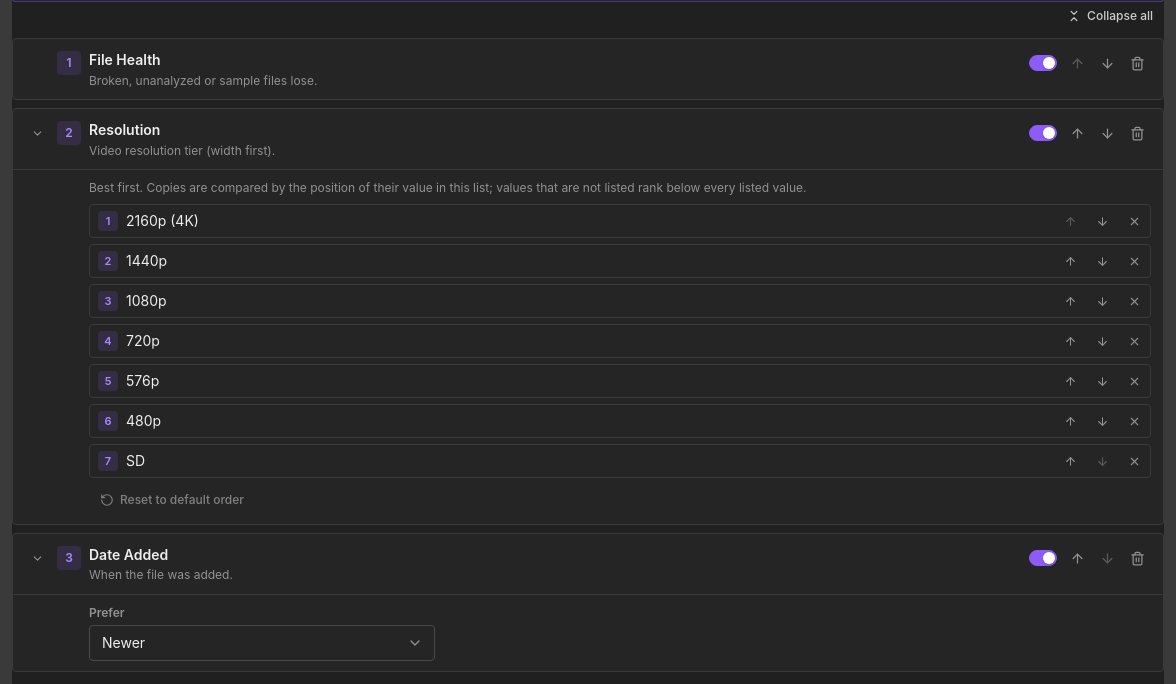
Test: <CriteriaBuilder> › reorders with up/down buttons and disables them at the ends
The image size is (1176, 684).
(page scrolled)
Check: the button named "Move File Health up" is disabled, box [1063,49,1091,77]
Check: the button named "Move Date Added down" is disabled, box [1093,544,1121,572]
Click the button named "Move Date Added up".
click(1077, 558)  # box [1063,544,1091,572]
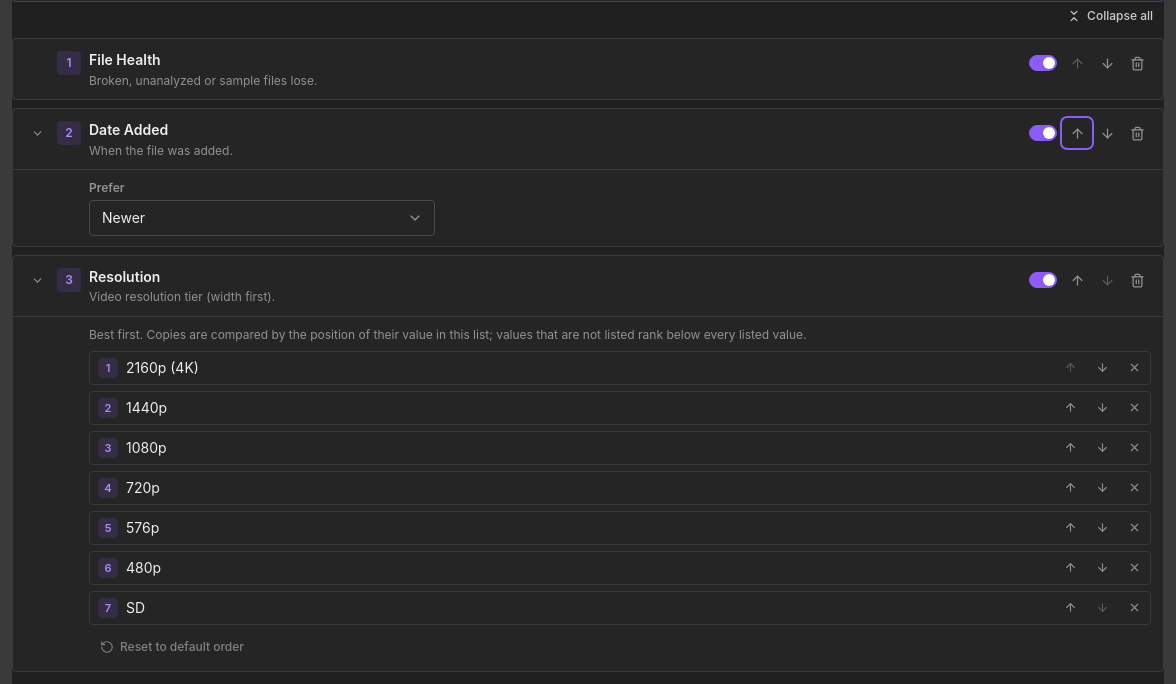
Click the button named "Move File Health down".
click(1107, 63)  # box [1093,49,1121,77]
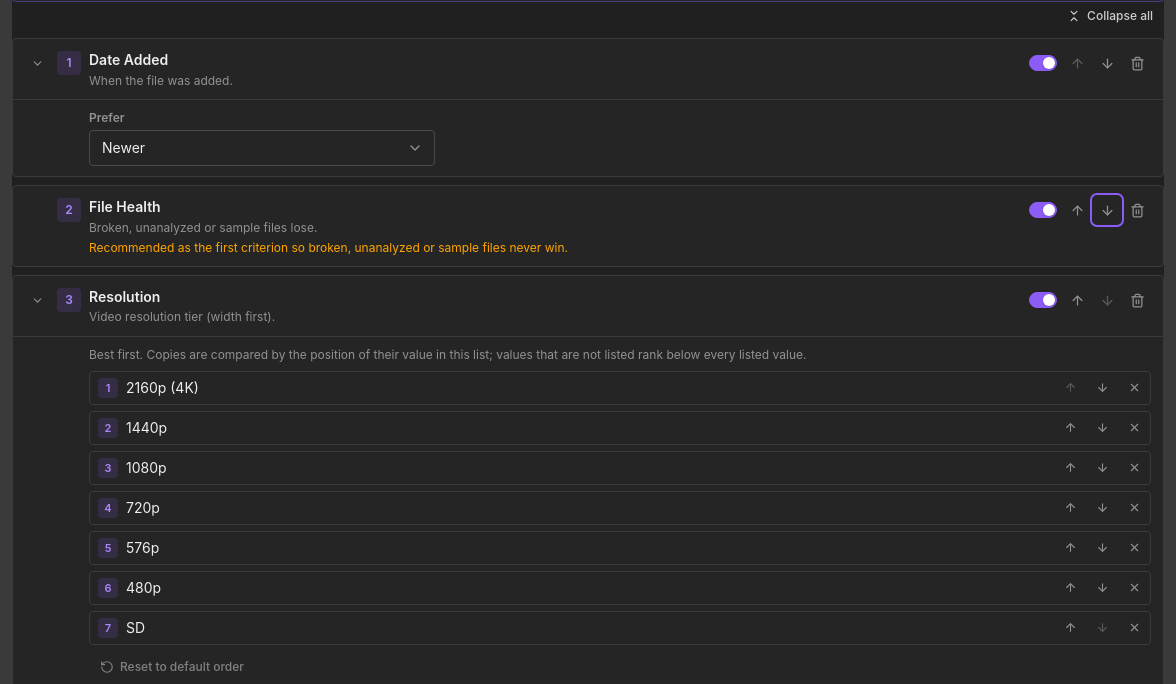
Check: the text "Recommended as the first criterion" is shown, box [89,240,568,255]
